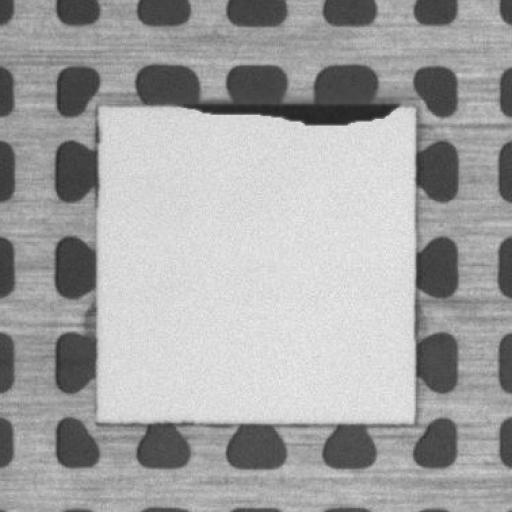DIE_BROKEN: (182, 98, 402, 124)
